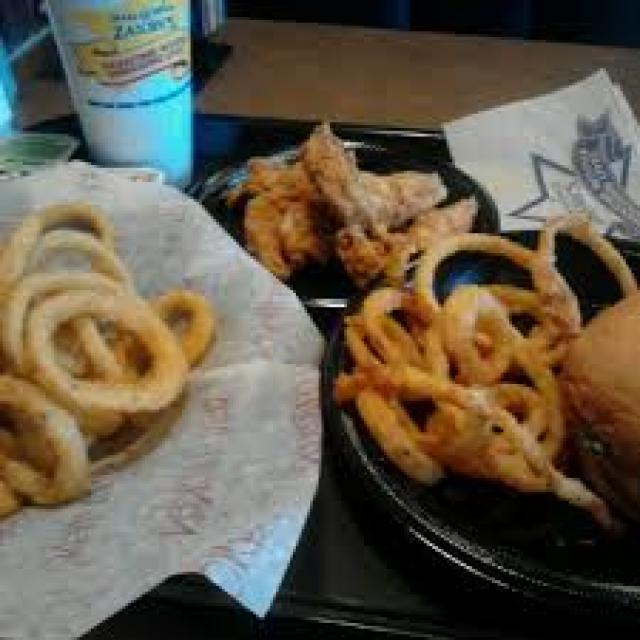Burger: (569, 273, 637, 506)
Chicken Wings: (219, 111, 478, 276)
Onion Rings: (3, 188, 560, 509)
